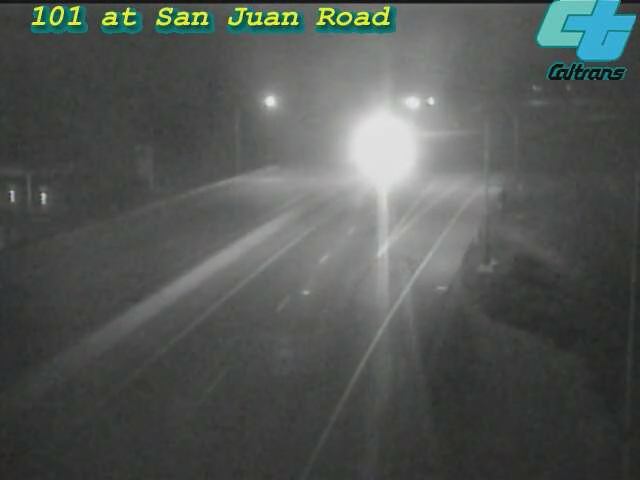vehicle: (350, 119, 400, 169)
